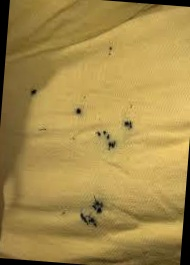ink: (95, 131, 117, 151), (79, 215, 97, 227), (93, 199, 106, 213), (124, 120, 133, 129), (75, 107, 82, 115), (31, 87, 38, 95)
